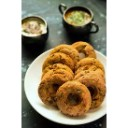vada: (57, 81, 90, 118), (37, 73, 73, 104), (77, 74, 107, 110), (42, 52, 75, 79), (69, 40, 98, 61), (76, 60, 105, 79)
